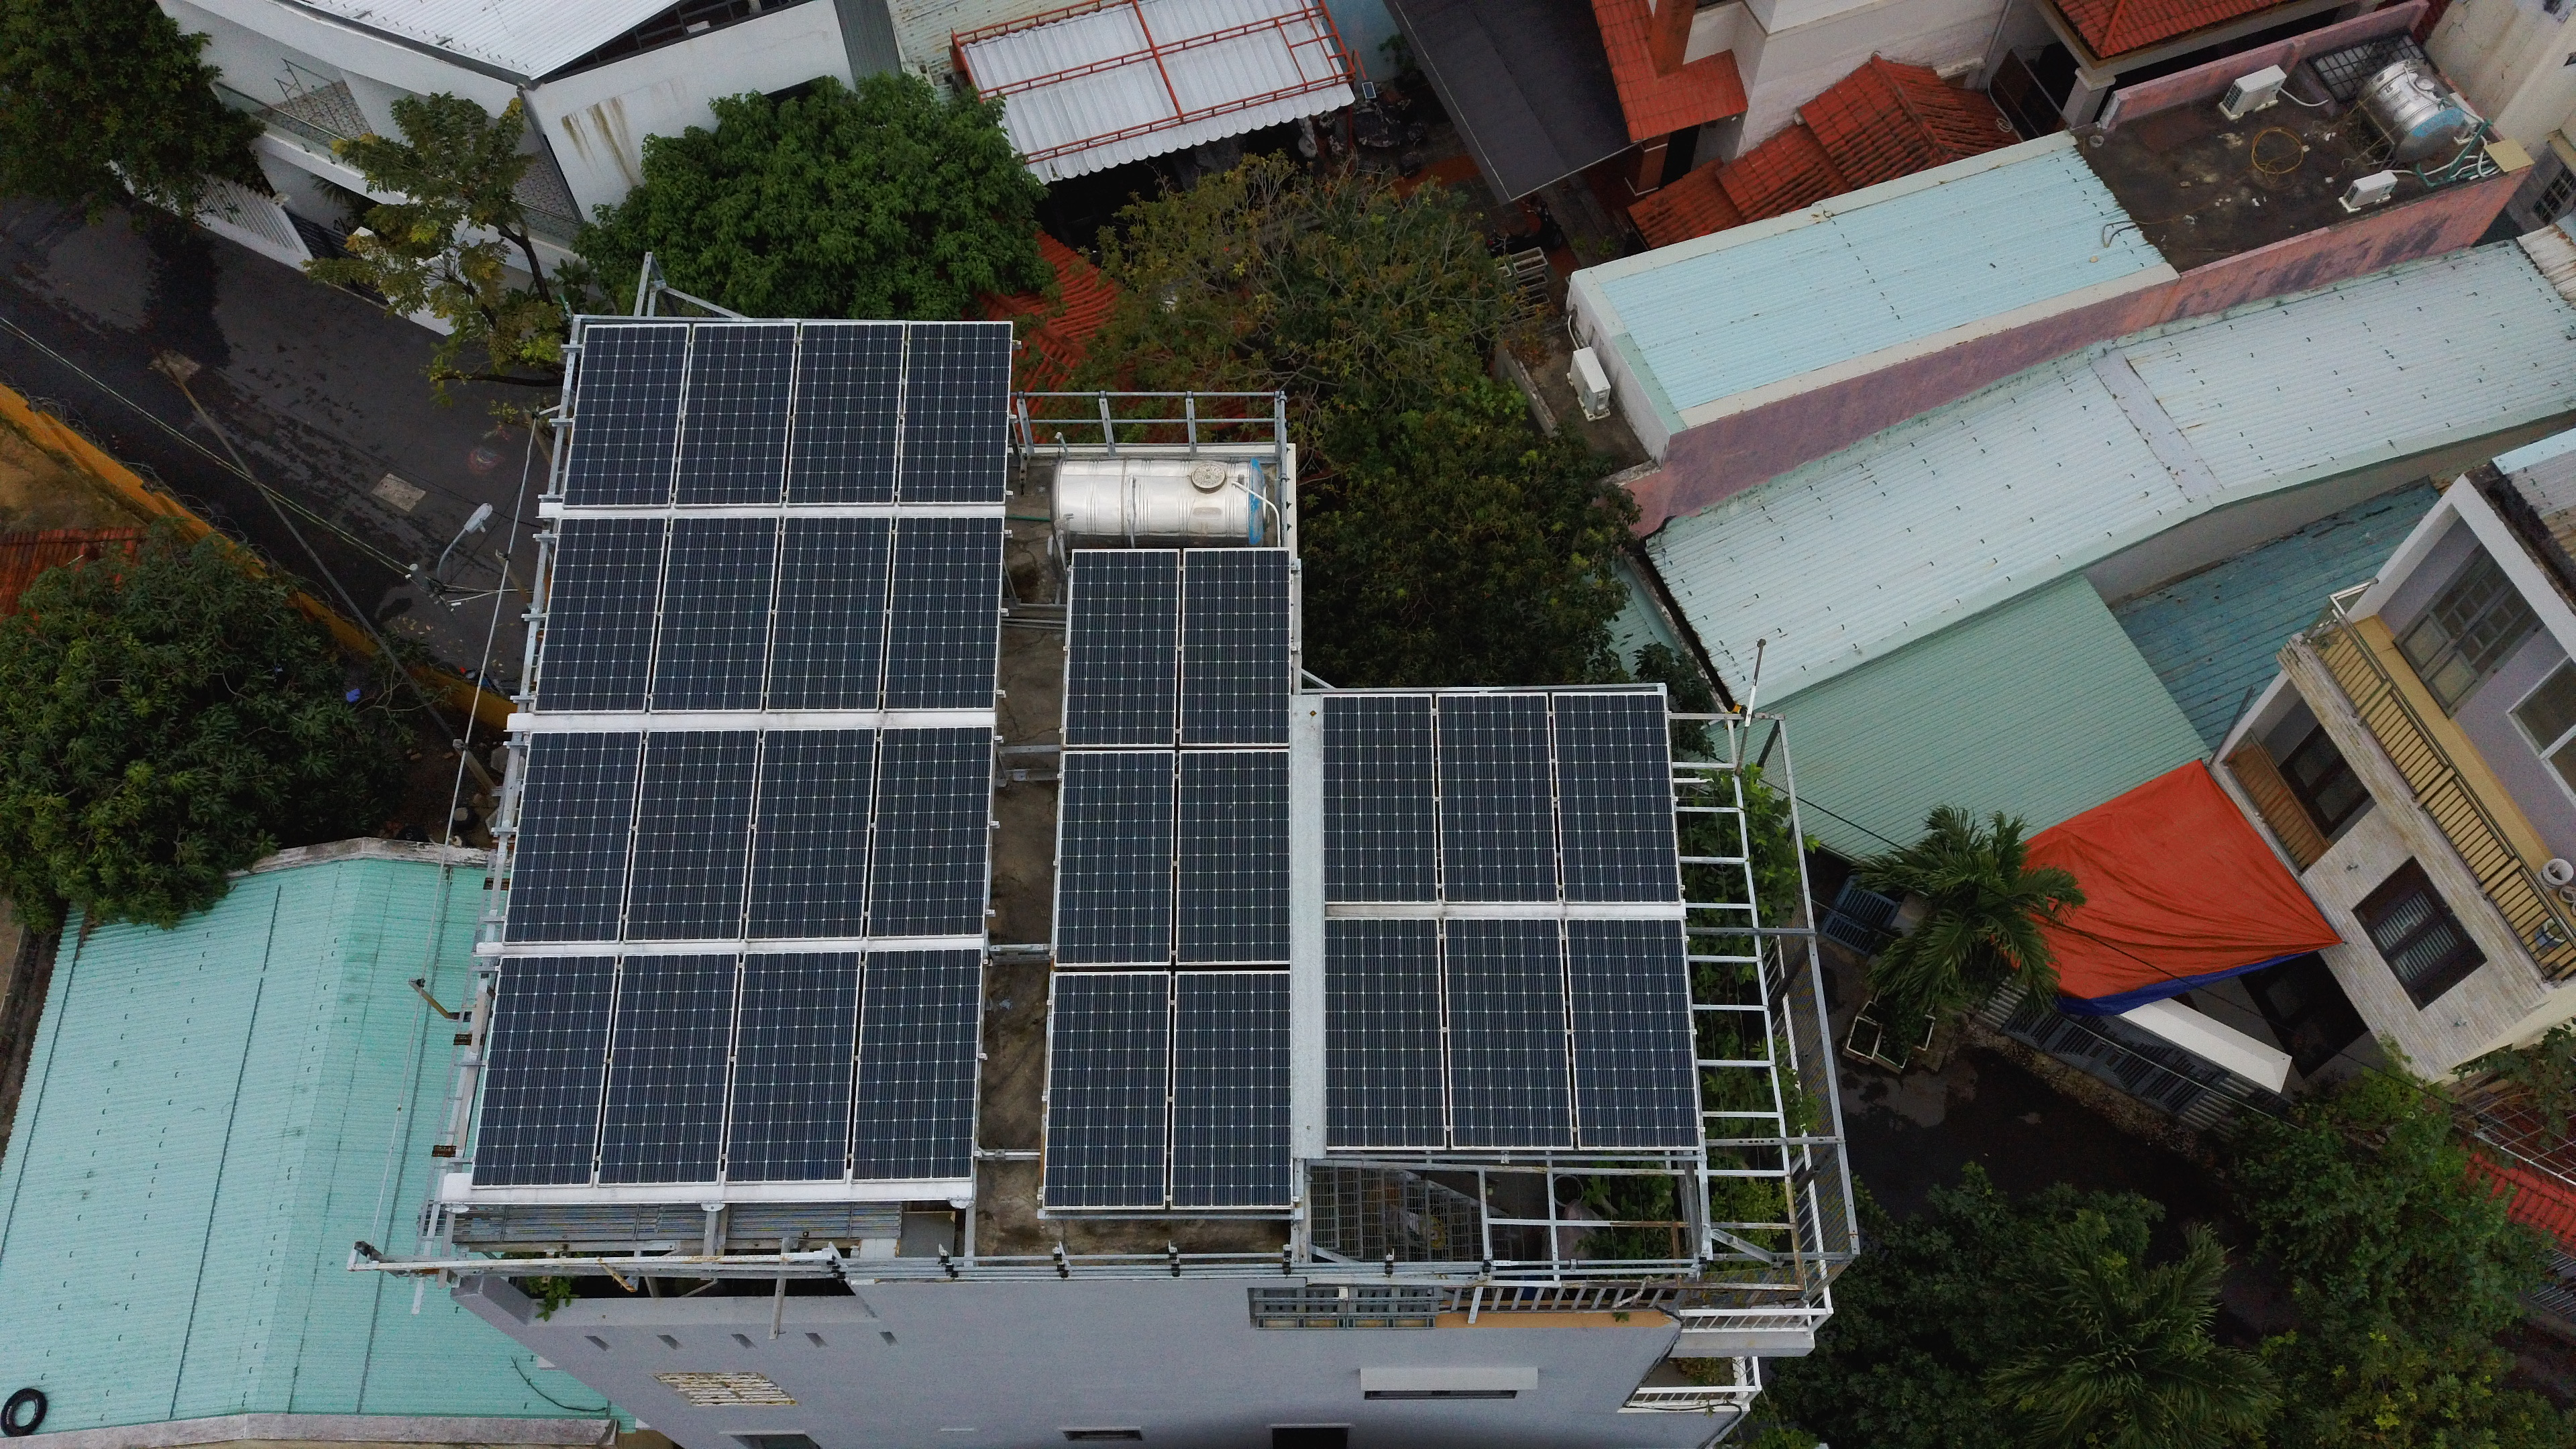solar: (465, 947, 625, 1194), (591, 948, 743, 1192), (1562, 911, 1713, 1157), (718, 947, 869, 1191), (1437, 911, 1585, 1157), (1316, 913, 1465, 1159), (844, 943, 989, 1191), (1035, 962, 1171, 1219), (1155, 738, 1299, 980), (1166, 961, 1300, 1219), (1042, 734, 1185, 975), (738, 724, 885, 950), (858, 718, 1003, 945), (619, 722, 764, 948), (501, 724, 646, 950), (1431, 686, 1568, 911), (1550, 683, 1686, 908), (1311, 685, 1445, 909), (644, 508, 787, 718), (531, 513, 674, 724), (878, 506, 1010, 720), (759, 511, 897, 717), (1168, 543, 1297, 757), (1056, 545, 1185, 757), (782, 317, 916, 515), (895, 315, 1030, 511), (557, 317, 692, 513), (672, 317, 805, 513)
